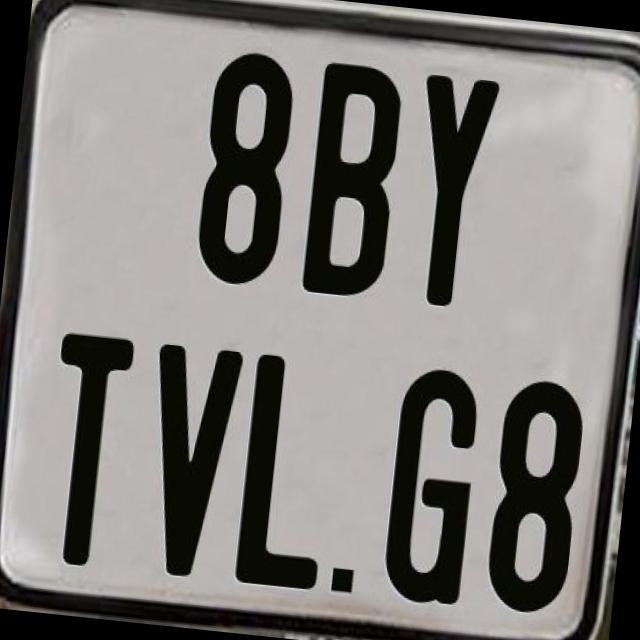8: (483, 372, 595, 614), (192, 46, 304, 286)
B: (298, 58, 410, 306)
G: (377, 362, 486, 612)
L: (229, 352, 340, 592)
T: (38, 330, 139, 577)
V: (133, 338, 246, 578)
Y: (401, 71, 503, 312)
